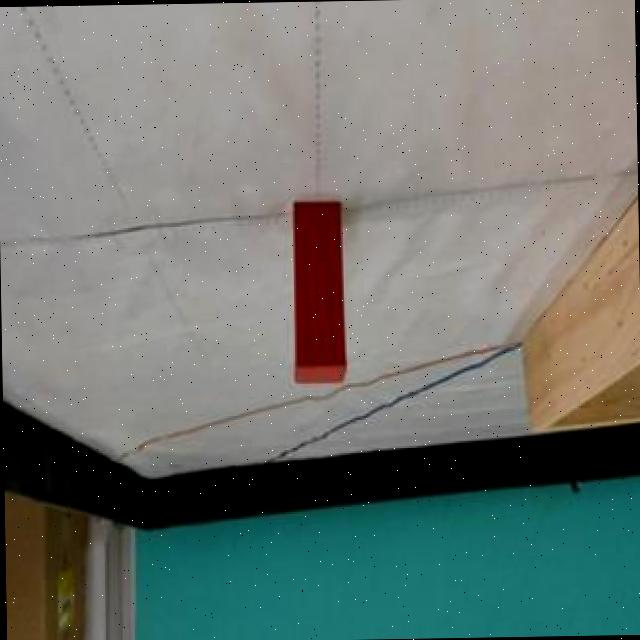redbox: (289, 200, 344, 386)
